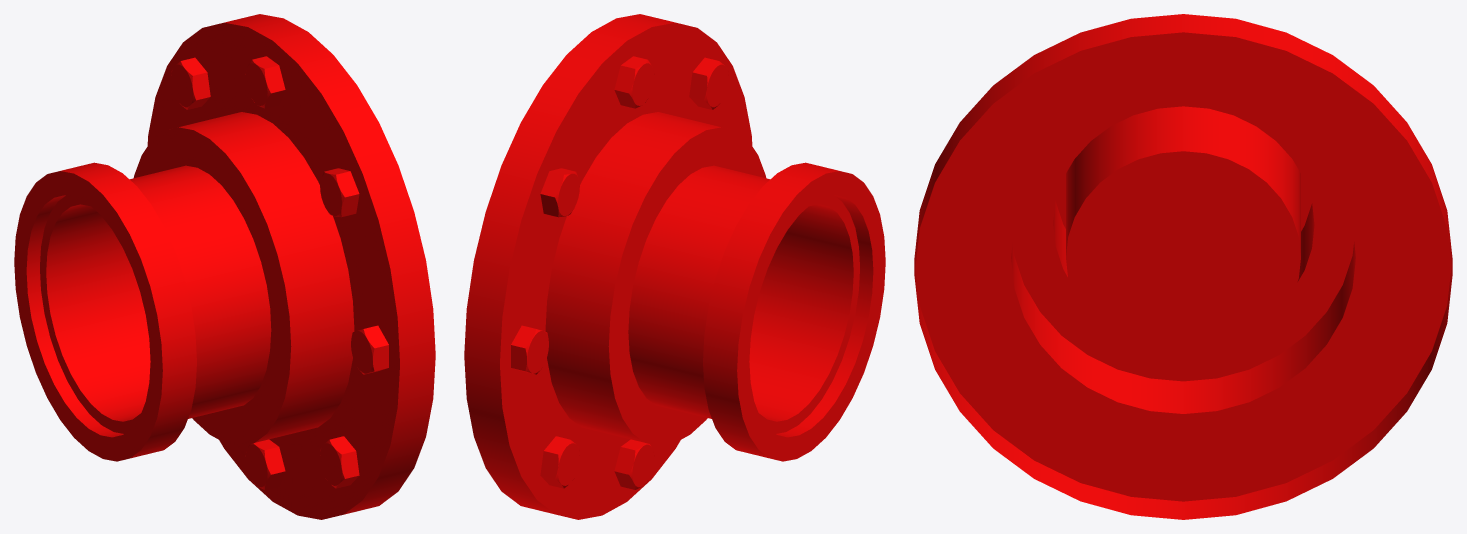
The model's file is Dungeon_Pipe_WallBaseConnector.FBX.
3 renders of one model, left to right at view 1: azimuth 30°, elevation 25°; view 2: azimuth 150°, elevation 25°; view 3: azimuth 270°, elevation 25°, orthographic. The views are drawn at different scales.
Visible parts, largest first — view 1: WallBaseConnector; view 2: WallBaseConnector; view 3: WallBaseConnector.
Part boxes in pixels (<box>): WallBaseConnector: <box>14,14,435,519</box>; WallBaseConnector: <box>464,14,885,519</box>; WallBaseConnector: <box>914,14,1452,519</box>.
Size of the model in its own units: 12.06 by 24.16 by 24.16.
